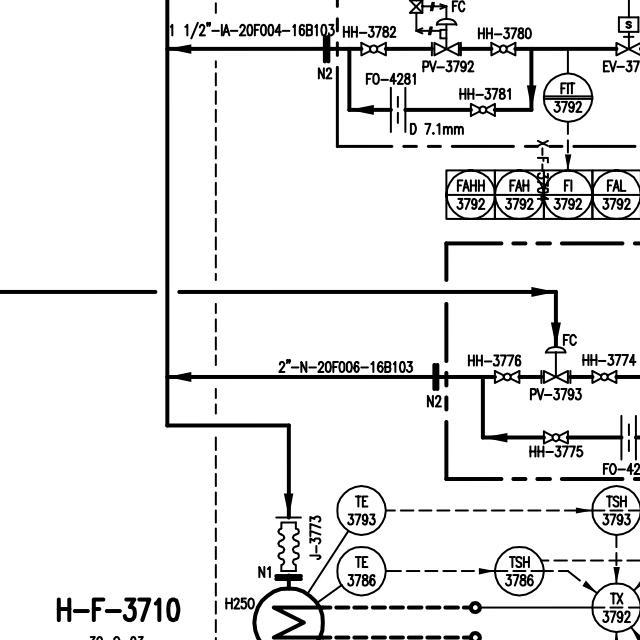BV2: (589, 366, 622, 387), (491, 367, 524, 386), (487, 40, 519, 59), (356, 39, 389, 57), (540, 427, 572, 445), (468, 99, 498, 118)
CBV: (403, 0, 469, 61)
EJ: (273, 513, 304, 578)
FC: (538, 344, 574, 386)
O: (615, 409, 639, 461), (387, 83, 409, 135)
SV: (612, 13, 640, 57)
